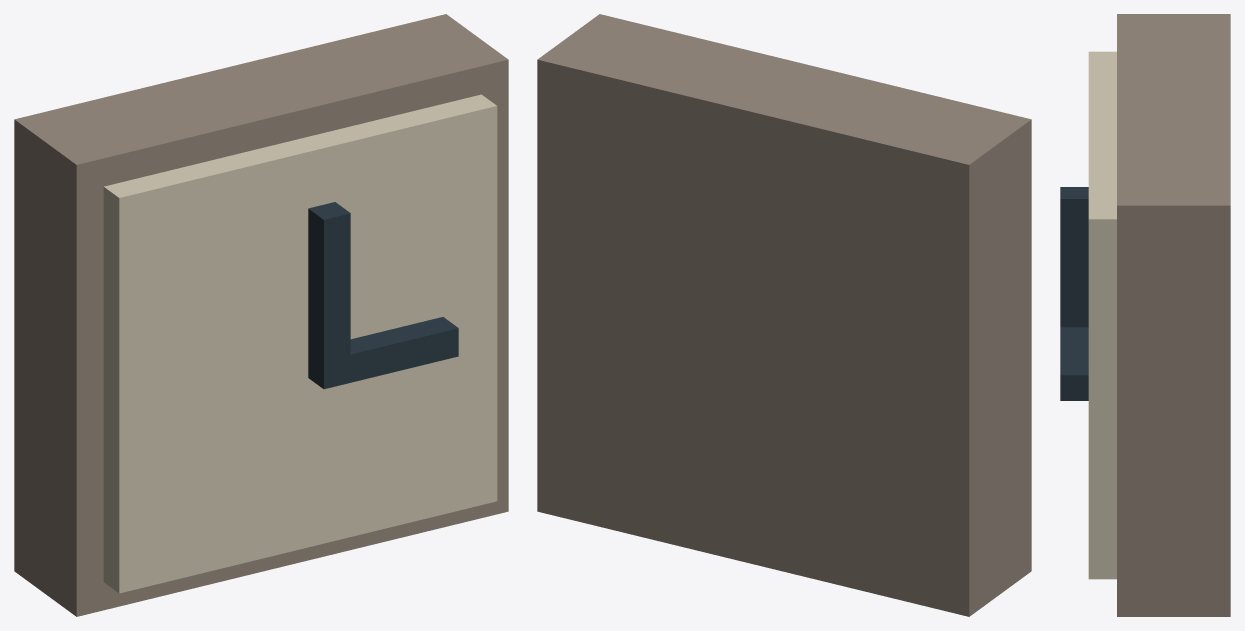
Rendered from photography-06.glb.
3 views of the same model, side by side, from view 1: azimuth 30°, elevation 25°; view 2: azimuth 150°, elevation 25°; view 3: azimuth 270°, elevation 25° (orthographic). The views are drawn at different scales.
Parts seen in each view (by area): view 1: Light meter; view 2: Light meter; view 3: Light meter.
Boxes of the visible parts, bbox=[...] form: Light meter: bbox=[14, 14, 508, 616]; Light meter: bbox=[537, 14, 1031, 616]; Light meter: bbox=[1060, 14, 1230, 616].
Size of the model in its own units: 1.28 by 1.28 by 0.48.
